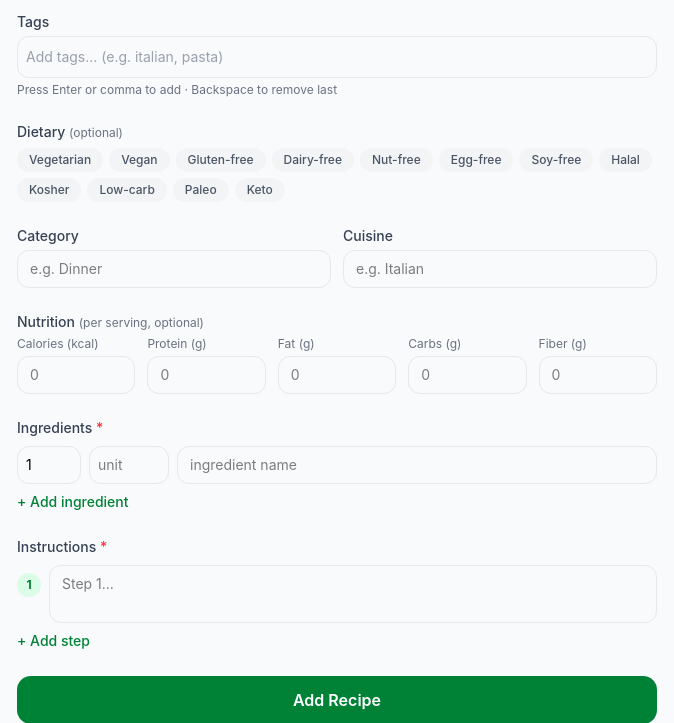
Test: RecipeFormPage › ingredient list management › adds a new row when clicking "+ Add ingredient"
(page scrolled)
Click the button "+ Add ingredient".
click(73, 502)  # box [17, 492, 128, 512]
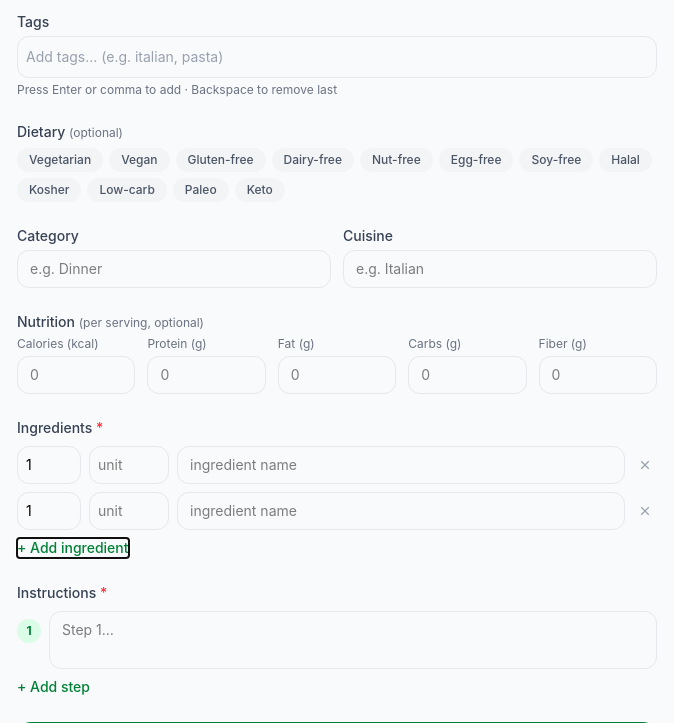
Result: the number of dropdowns with placeholder "ingredient name" is 2 at [177, 446, 625, 484]; [177, 492, 625, 530]
